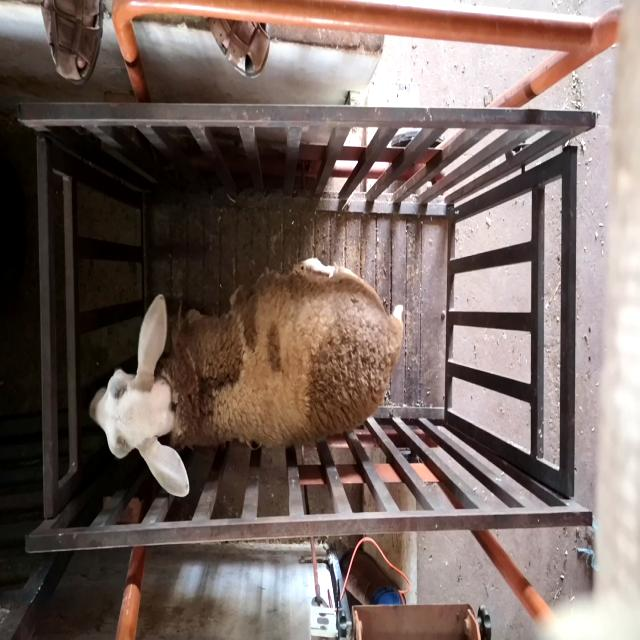sheep: (89, 257, 405, 498)
